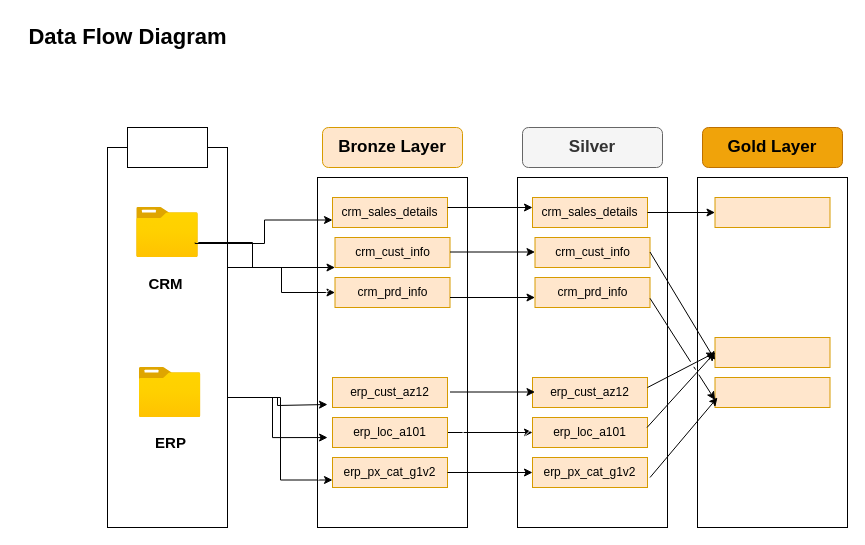
Some shapes in this 865 by 545 pixel diagram are drawn without their labels. The centre of each missing label's shape, as x and y in pixels:
dim_customers: [772,352]
dum_products: [772,392]
fact_sales: [772,212]
Sources: [167,147]
